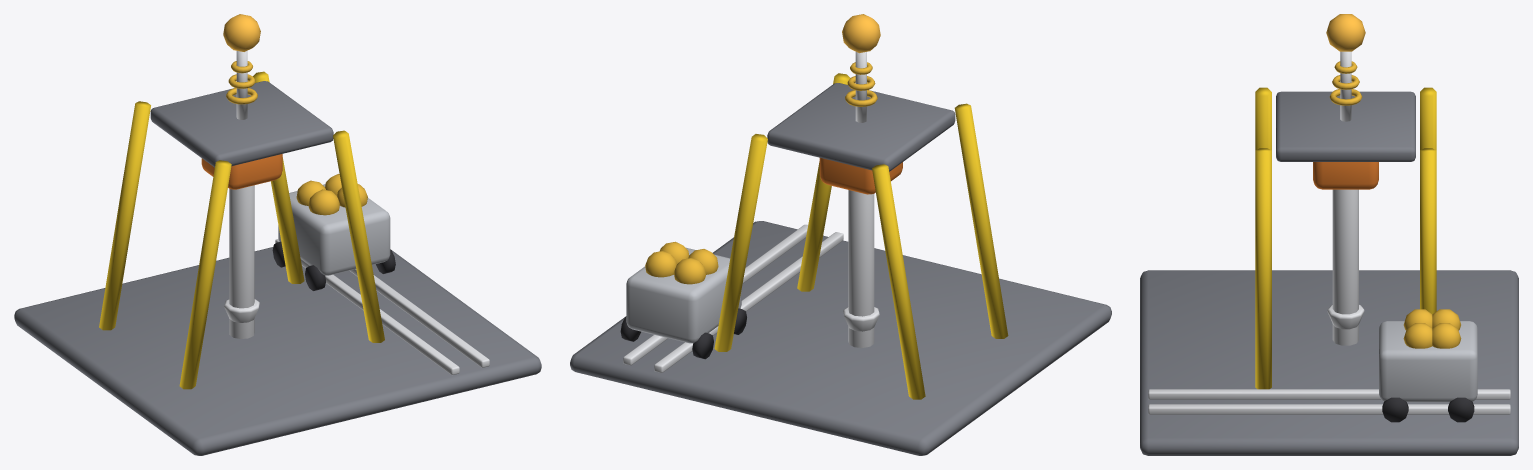
Rendered from Mine.glb.
The picture shows the model from 3 angles, left to right: view 1: azimuth 30°, elevation 25°; view 2: azimuth 150°, elevation 25°; view 3: azimuth 270°, elevation 25°; orthographic projection. The views are drawn at different scales.
Visible parts, largest first — view 1: Mine; view 2: Mine; view 3: Mine.
Part boxes in pixels (x1=…): Mine: x1=14, y1=14, x2=541, y2=455; Mine: x1=570, y1=14, x2=1111, y2=455; Mine: x1=1140, y1=14, x2=1518, y2=455.
Bounding box in the file's own units: 2.5 × 2.3 × 2.3.
